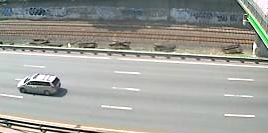car: (16, 71, 65, 99)
